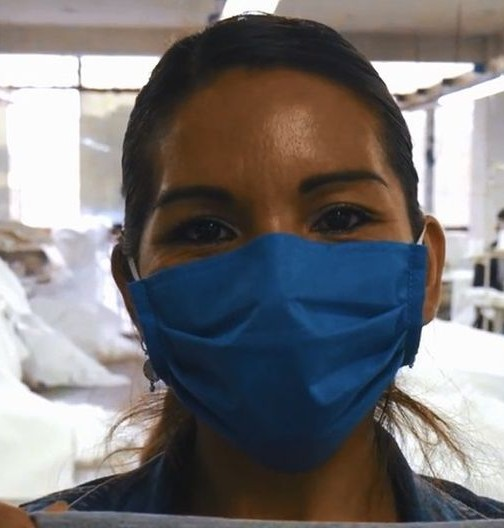with_mask: (109, 48, 462, 468)
